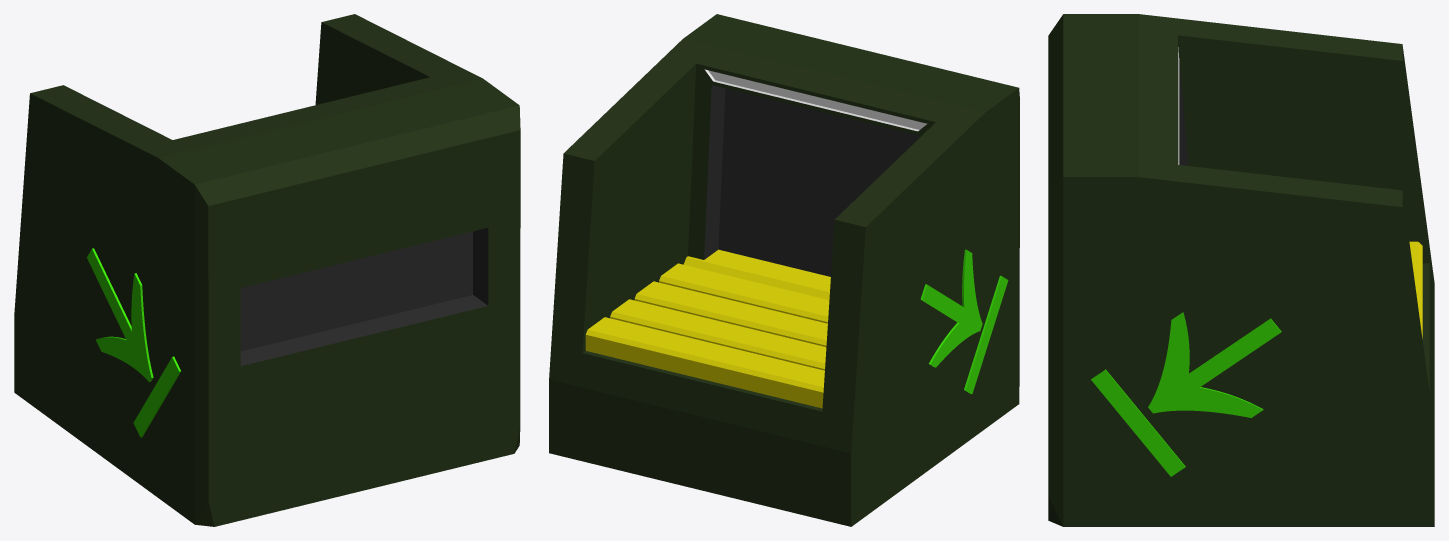
The model's file is Importer.fbx.
3 views of the same model, side by side, from view 1: azimuth 30°, elevation 25°; view 2: azimuth 150°, elevation 25°; view 3: azimuth 270°, elevation 25° (orthographic). The views are drawn at different scales.
Parts seen in each view (by area): view 1: Exporter; view 2: Exporter; view 3: Exporter.
Part boxes in pixels (bbox=[...]): Exporter: bbox=[14, 14, 520, 526]; Exporter: bbox=[549, 14, 1019, 526]; Exporter: bbox=[1048, 14, 1434, 526].
Size of the model in its own units: 101 by 100 by 100.
